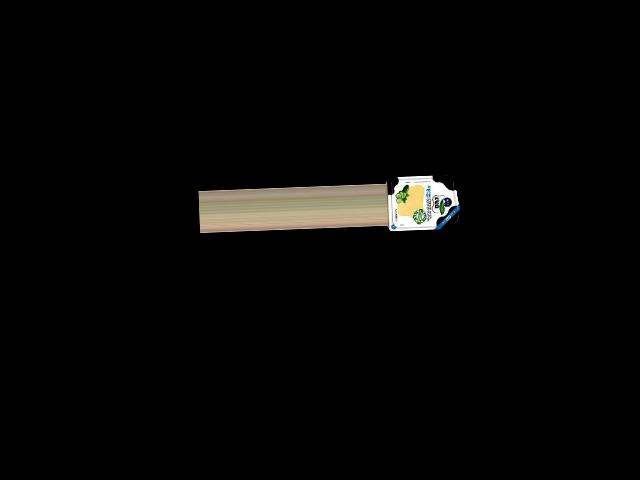cheese: (384, 171, 459, 234)
